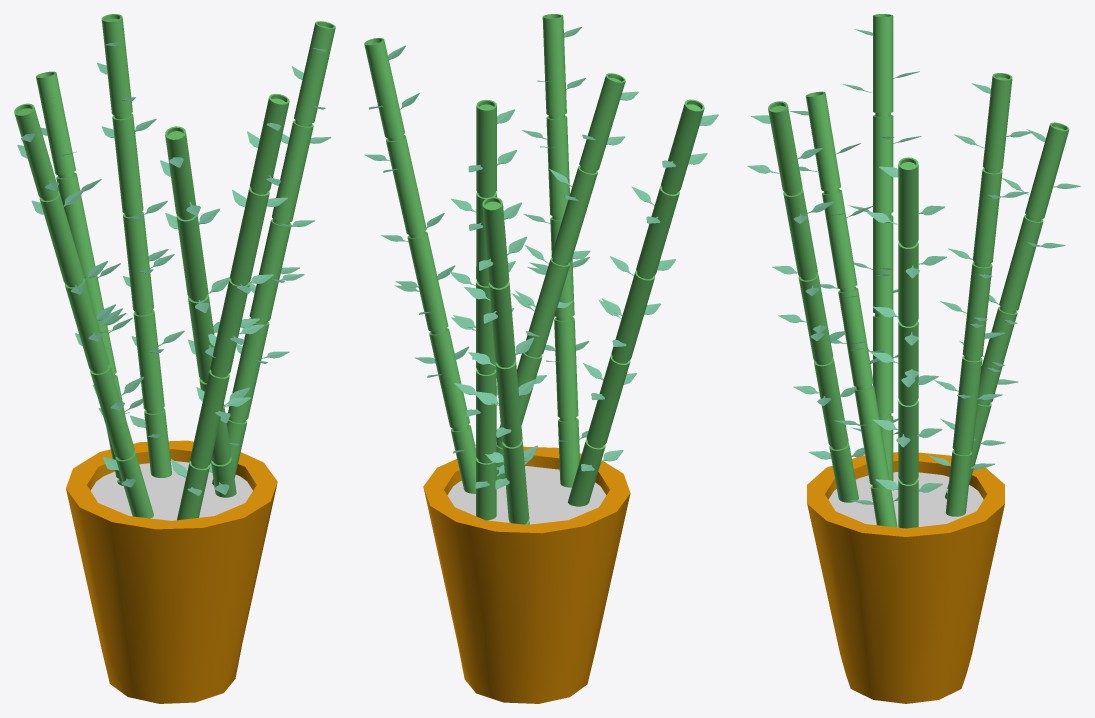
File: menta.glb
3 views of the same model, side by side, from view 1: azimuth 30°, elevation 25°; view 2: azimuth 150°, elevation 25°; view 3: azimuth 270°, elevation 25° (orthographic). The views are drawn at different scales.
Visible parts, largest first — view 1: Object_4, Object_3, Object_10, Object_2; view 2: Object_4, Object_3, Object_10, Object_2; view 3: Object_4, Object_3, Object_10, Object_2.
Part boxes in pixels (<box>): Object_4: <box>14,14,335,520</box>; Object_3: <box>66,440,277,703</box>; Object_10: <box>17,42,331,495</box>; Object_2: <box>90,461,252,520</box>; Object_4: <box>364,14,704,524</box>; Object_3: <box>423,446,630,703</box>; Object_10: <box>364,27,718,489</box>; Object_2: <box>447,466,606,524</box>; Object_4: <box>768,14,1069,528</box>; Object_3: <box>807,452,1004,703</box>; Object_10: <box>747,29,1080,504</box>; Object_2: <box>828,472,983,527</box>.
Bounding box in the file's own units: 0.9062 × 1.63 × 0.8214.
